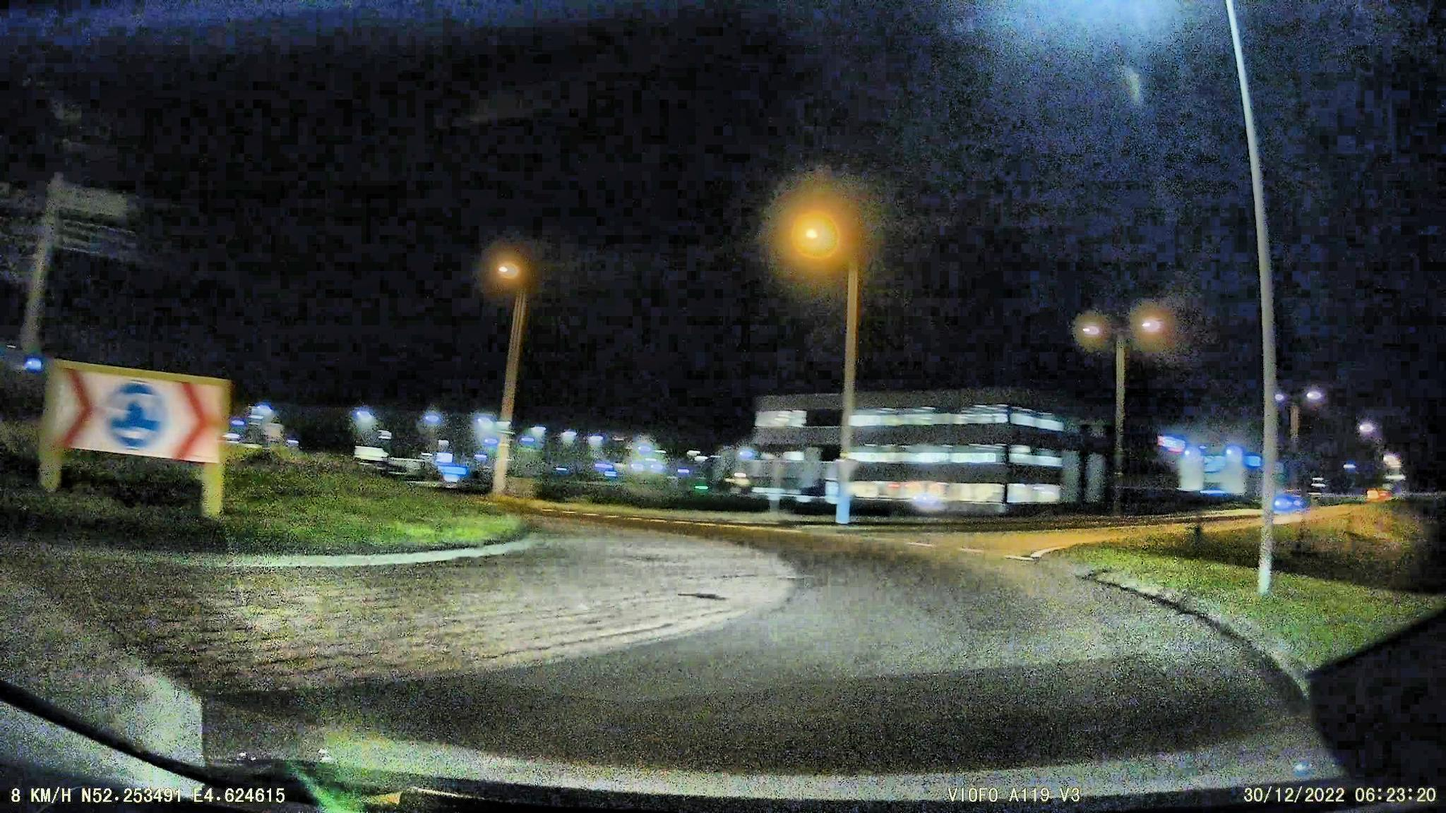Roads: (347, 526, 1367, 813)
